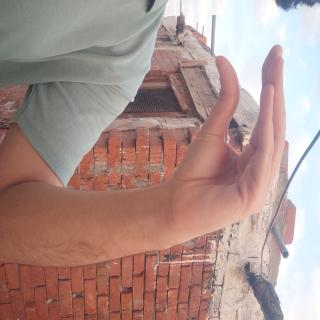JEEM: (24, 36, 192, 242)
